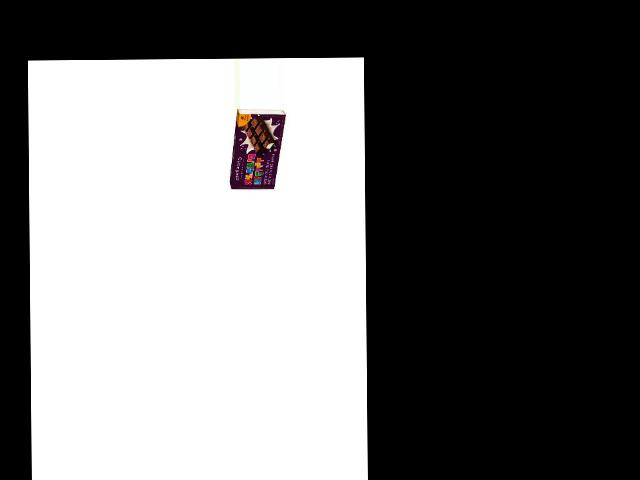chocolate: (229, 107, 282, 195)
